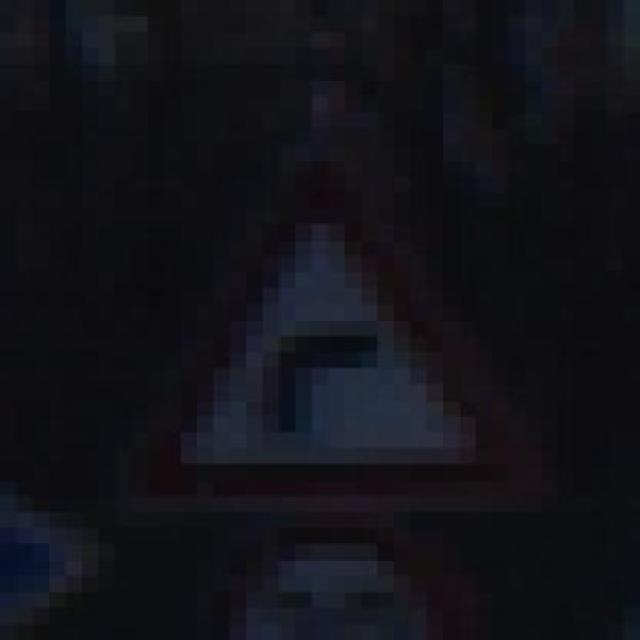Dangerous Rright Curve Ahead: (114, 144, 526, 528)
